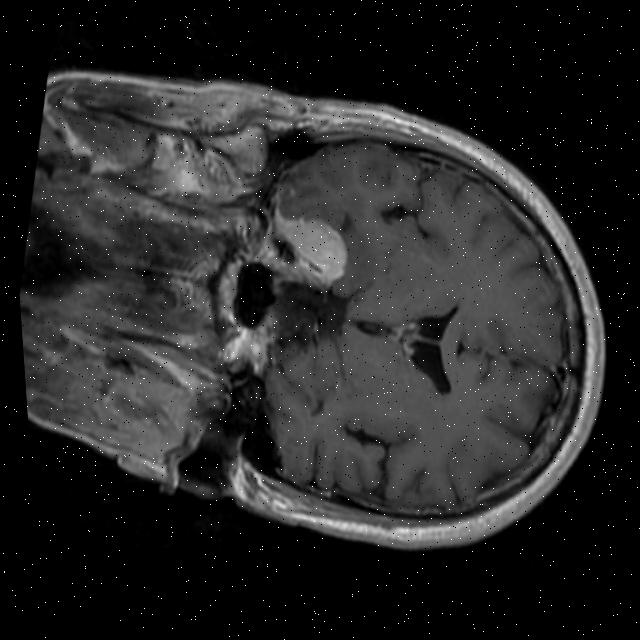Meningioma: (261, 205, 357, 287)
